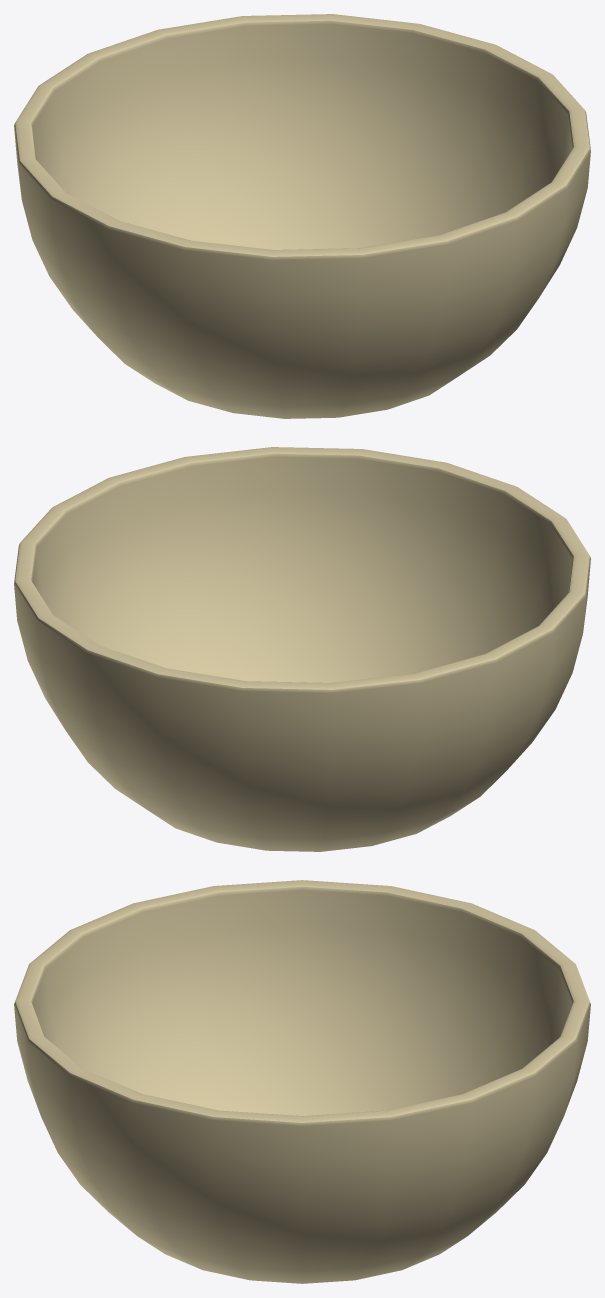
File: bowl.fbx
3 renders of one model, top to bottom at view 1: azimuth 30°, elevation 25°; view 2: azimuth 150°, elevation 25°; view 3: azimuth 270°, elevation 25°, orthographic.
Parts seen in each view (by area): view 1: pSphere3; view 2: pSphere3; view 3: pSphere3.
Part boxes in pixels (box(x1,y1,x2,y2)): pSphere3: box(14, 14, 590, 418); pSphere3: box(14, 447, 590, 851); pSphere3: box(14, 880, 590, 1283).
Bounding box in the file's own units: 10.78 × 4.73 × 10.78.
